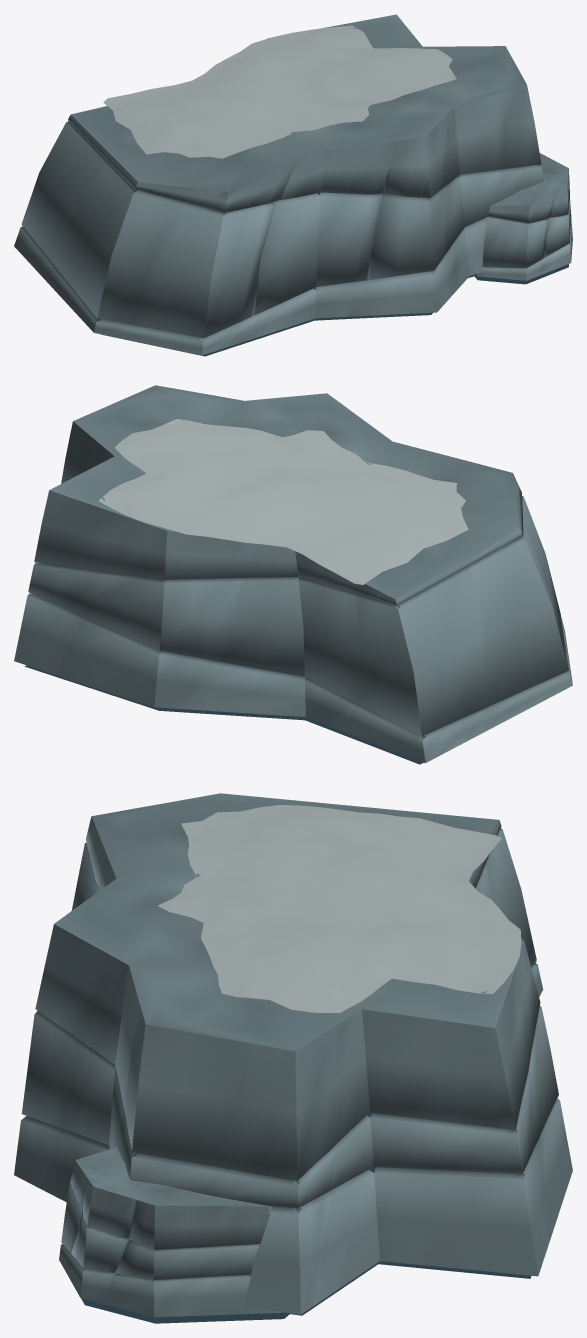
File: glacial_scree.glb
The picture shows the model from 3 angles, top to bottom: view 1: azimuth 30°, elevation 25°; view 2: azimuth 150°, elevation 25°; view 3: azimuth 270°, elevation 25°; orthographic projection. The views are drawn at different scales.
Visible parts, largest first — view 1: glacial_scree; view 2: glacial_scree; view 3: glacial_scree.
Part boxes in pixels (x1,y1,x2,y2): glacial_scree: [14, 14, 572, 356]; glacial_scree: [14, 385, 572, 764]; glacial_scree: [14, 793, 572, 1323].
Size of the model in its own units: 1.96 by 0.74 by 1.34.
